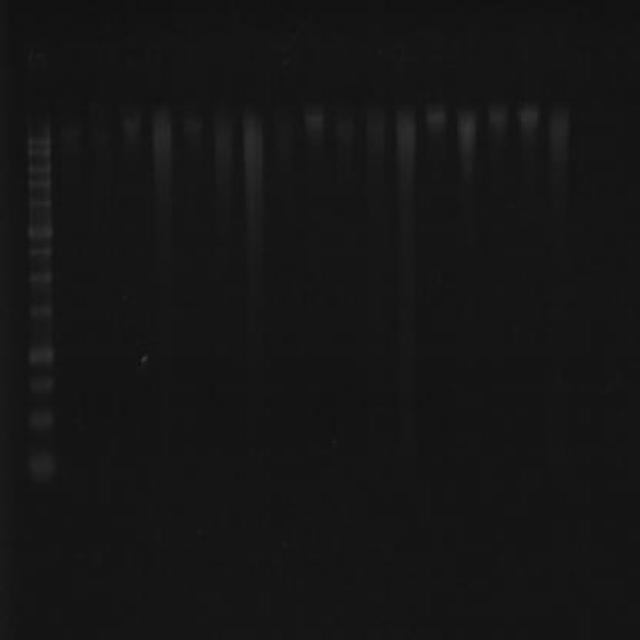M: (21, 111, 61, 487)
P: (24, 450, 58, 482), (26, 405, 56, 438), (26, 374, 54, 400), (27, 344, 55, 370), (24, 300, 54, 322), (24, 222, 54, 240), (26, 269, 54, 288), (23, 131, 54, 147), (25, 243, 53, 260), (25, 163, 53, 177), (26, 197, 52, 211), (25, 178, 53, 191), (24, 148, 52, 160)
